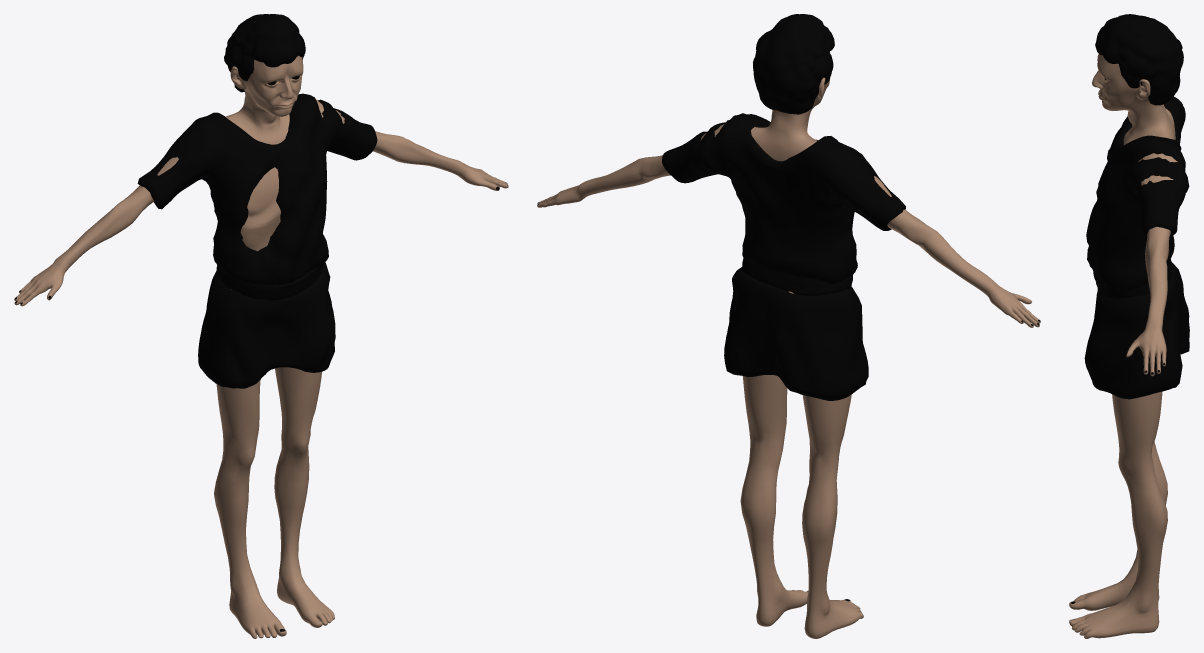
Rendered from Bodo_Clothed_LP.fbx.
The picture shows the model from 3 angles, left to right: view 1: azimuth 30°, elevation 25°; view 2: azimuth 150°, elevation 25°; view 3: azimuth 270°, elevation 25°; orthographic projection.
Visible parts, largest first — view 1: Bodo_Clothes_LP; view 2: Bodo_Clothes_LP; view 3: Bodo_Clothes_LP.
Boxes of the visible parts, box(x1,y1,x2,y2) form: Bodo_Clothes_LP: box(14, 14, 508, 638); Bodo_Clothes_LP: box(537, 14, 1040, 638); Bodo_Clothes_LP: box(1069, 14, 1189, 638).
Bounding box in the file's own units: 134 × 155 × 28.05.
